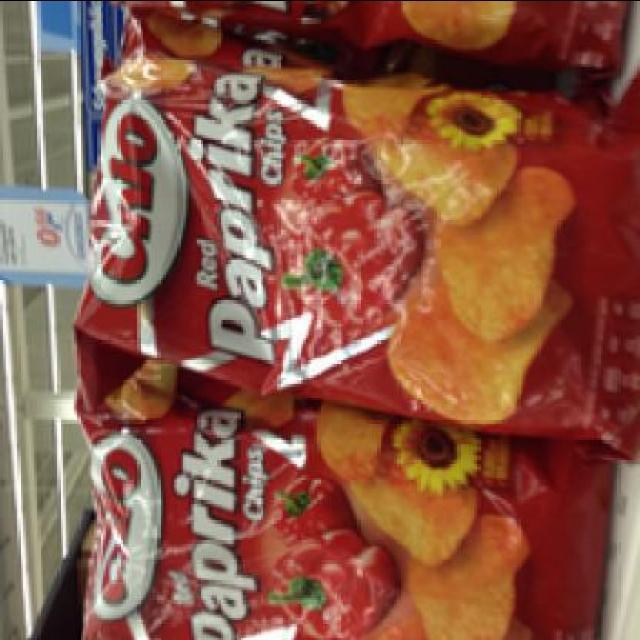Chips: (74, 55, 637, 432), (77, 404, 609, 638)
